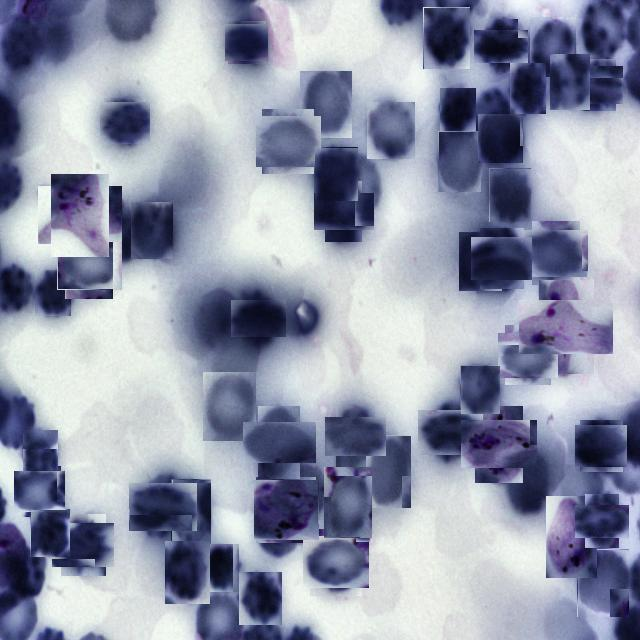red blood cell: (203, 372, 256, 441), (306, 532, 366, 592), (504, 445, 552, 519), (577, 549, 629, 617), (323, 466, 372, 538), (300, 71, 352, 138), (260, 112, 318, 171), (134, 478, 192, 536), (250, 414, 308, 472), (365, 435, 411, 508), (61, 238, 118, 295), (528, 226, 584, 282), (422, 404, 478, 460), (423, 7, 470, 69), (57, 518, 110, 572), (366, 101, 415, 159), (165, 541, 210, 604), (502, 328, 554, 382), (530, 17, 576, 77), (476, 232, 528, 284), (438, 131, 481, 192), (171, 479, 211, 544), (459, 232, 502, 291), (330, 412, 380, 462), (319, 187, 368, 236), (131, 202, 173, 259), (238, 571, 282, 625), (314, 147, 358, 201), (578, 422, 626, 470), (477, 113, 523, 163), (489, 168, 531, 222), (550, 54, 590, 110), (17, 468, 63, 515), (102, 100, 148, 146), (574, 62, 620, 108), (236, 296, 282, 342), (22, 429, 58, 485), (479, 24, 524, 68), (460, 365, 500, 414), (580, 499, 624, 543), (30, 509, 70, 557), (510, 63, 546, 114), (203, 543, 239, 592), (440, 88, 476, 136), (35, 270, 71, 316), (227, 22, 267, 62)
ring: (530, 290, 604, 364)
trophozoite: (45, 180, 116, 250), (546, 496, 597, 578), (255, 478, 318, 542), (468, 414, 530, 476)
